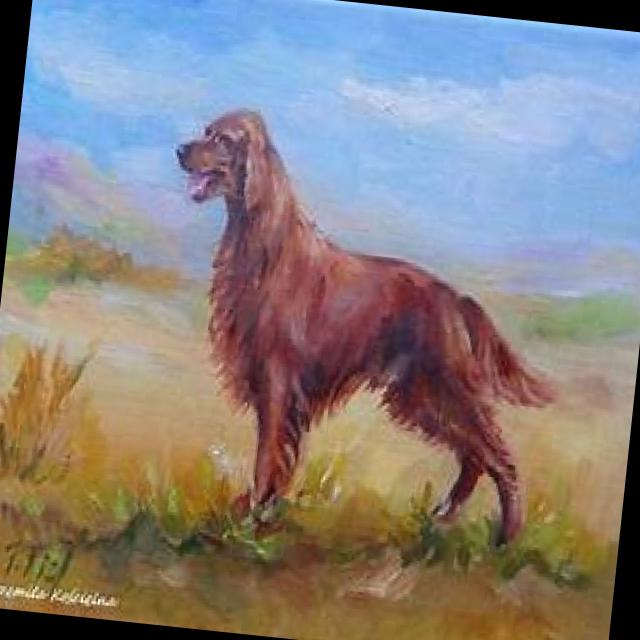animal: (134, 98, 584, 562)
